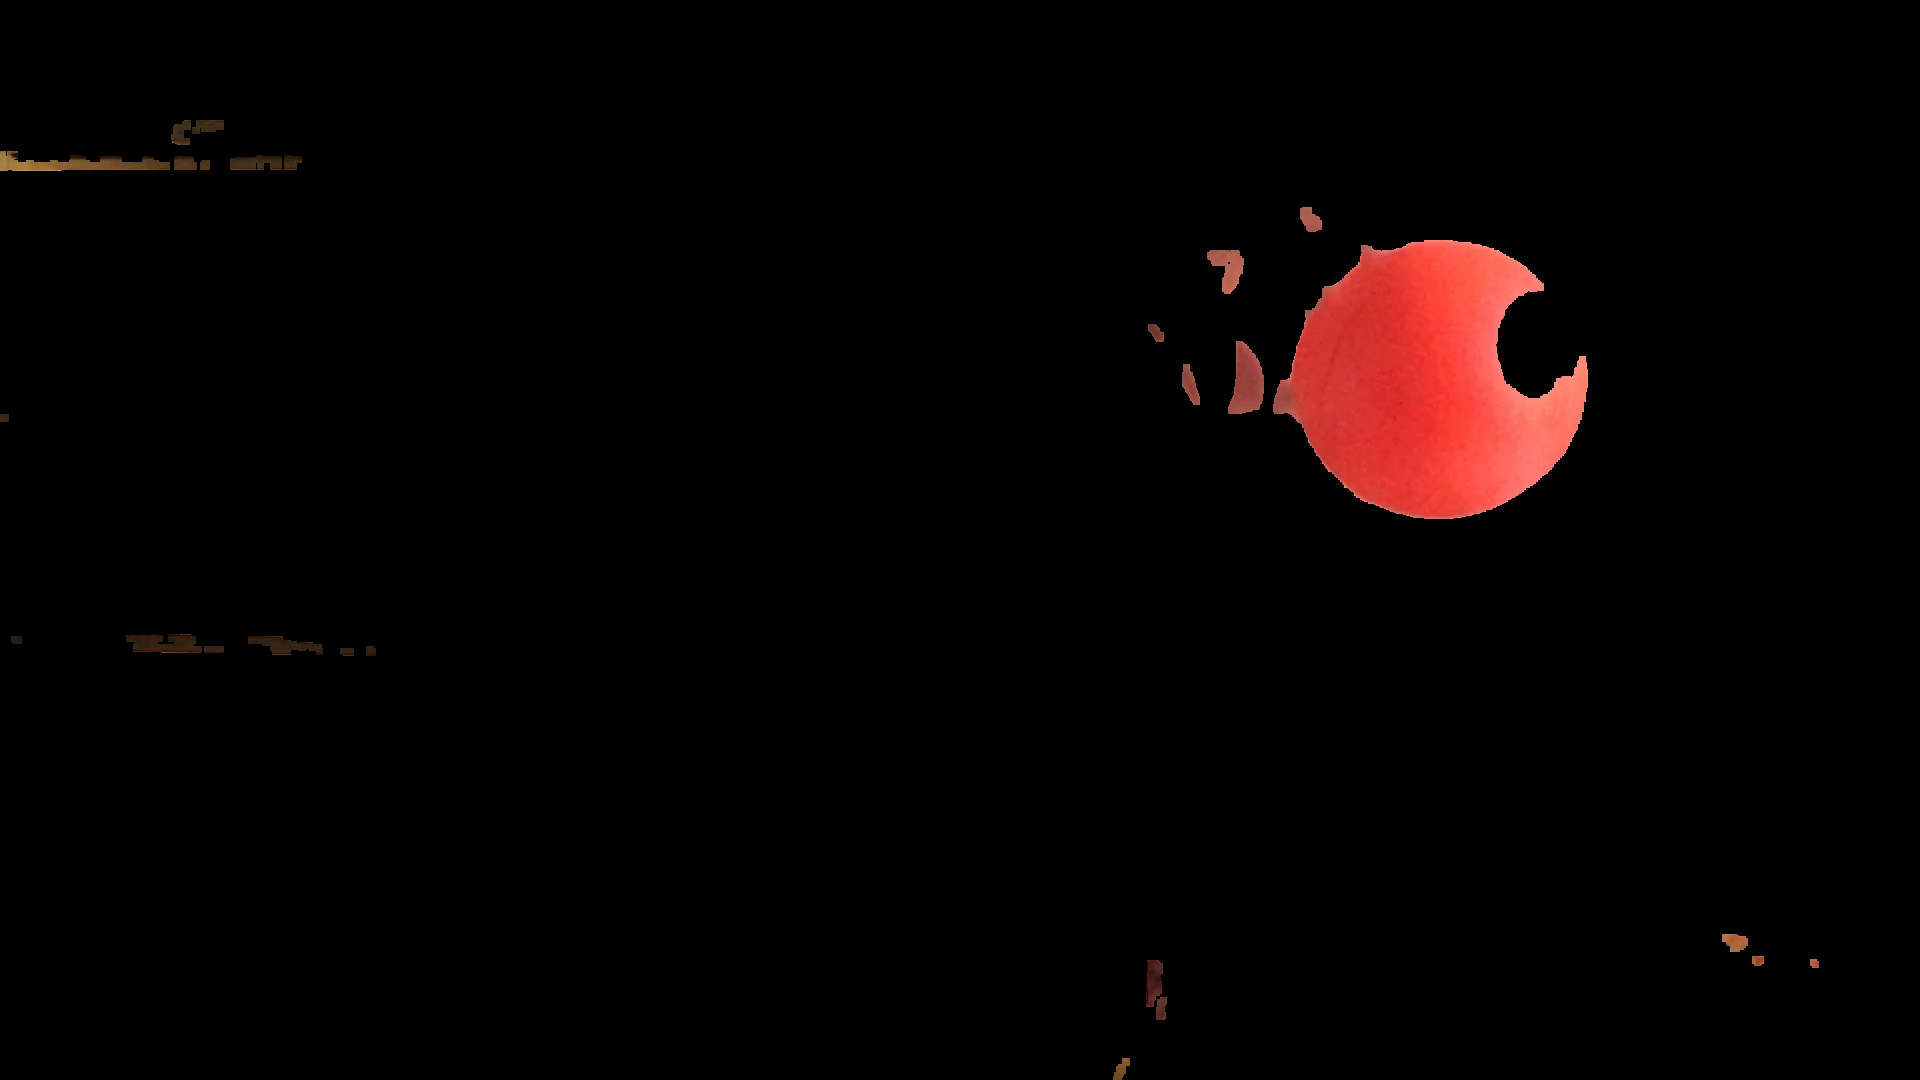Ball: (1296, 231, 1589, 521)
